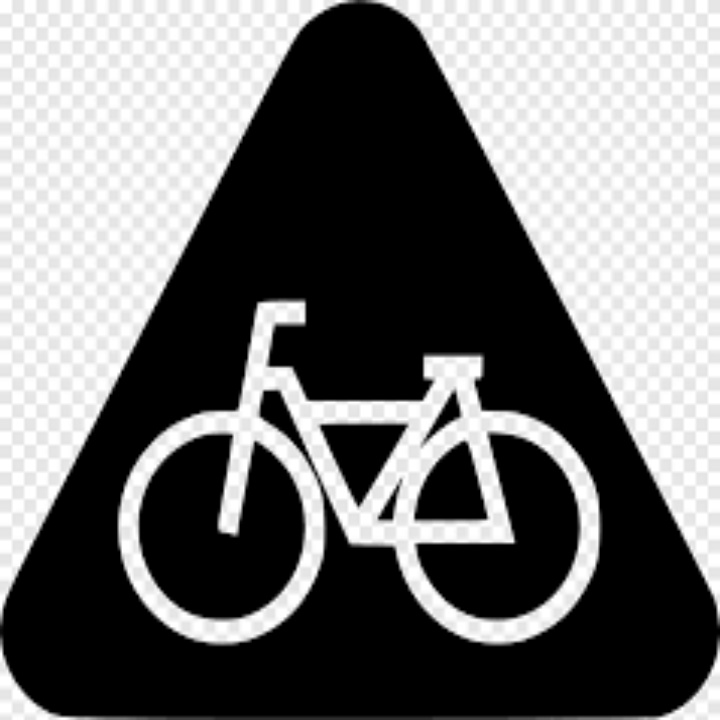bicycle: (583, 141, 675, 233)
cross: (503, 109, 641, 247), (65, 99, 201, 235)
